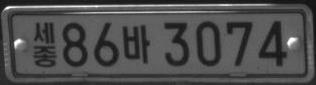0: (195, 20, 222, 66)
3: (163, 21, 189, 67)
4: (258, 19, 288, 66)
6: (93, 21, 119, 66)
7: (225, 20, 253, 66)
8: (61, 21, 88, 67)
바: (122, 23, 151, 63)
세종_V: (32, 22, 57, 68)
